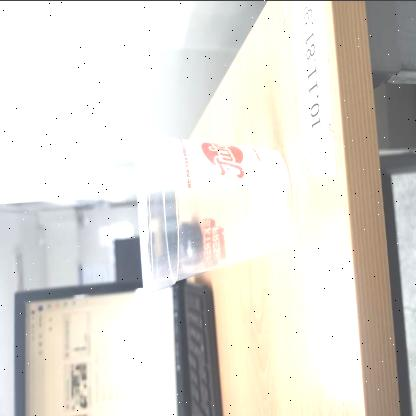Others: (132, 116, 291, 306)
